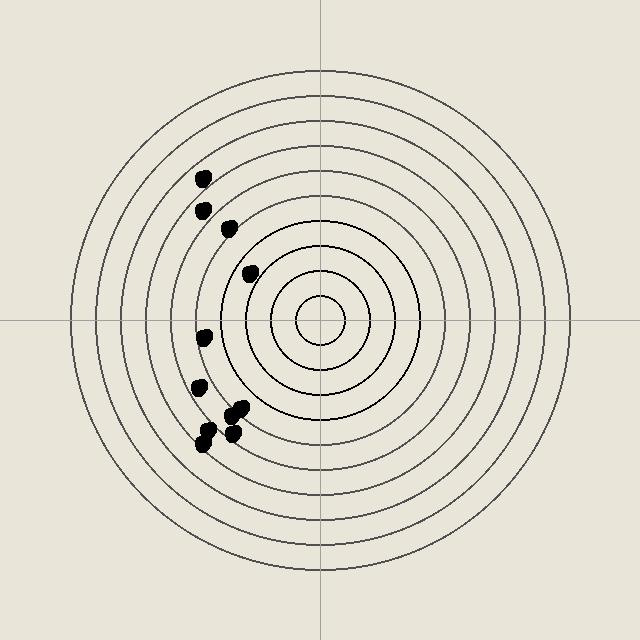vertical_scatter: (192, 433, 212, 453), (192, 200, 212, 220), (239, 263, 259, 283), (218, 218, 238, 238), (221, 405, 241, 425), (188, 377, 208, 397), (193, 327, 213, 347), (197, 420, 217, 440), (192, 168, 212, 188), (230, 398, 250, 418), (222, 423, 242, 443)
